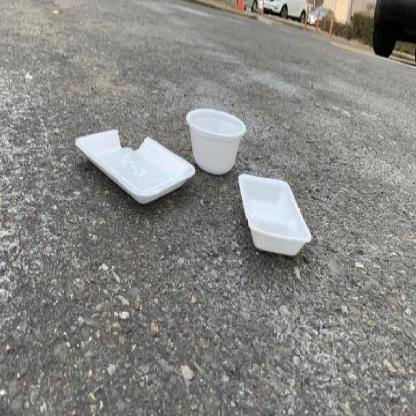Glass Cup: (75, 126, 197, 204), (75, 129, 195, 203), (239, 174, 311, 257), (239, 174, 312, 255), (186, 106, 246, 174), (186, 108, 246, 174)
